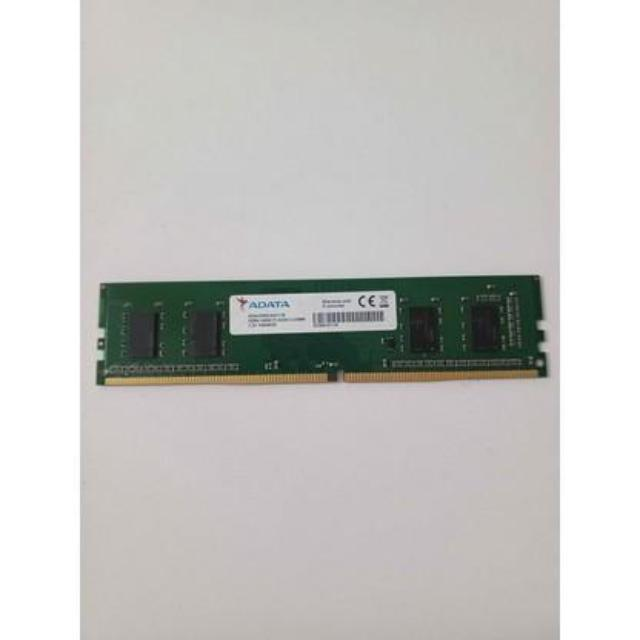RAM: (89, 276, 556, 392)
